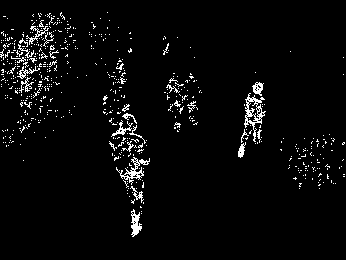person: (107, 113, 153, 238), (242, 79, 265, 171), (108, 53, 114, 57)
